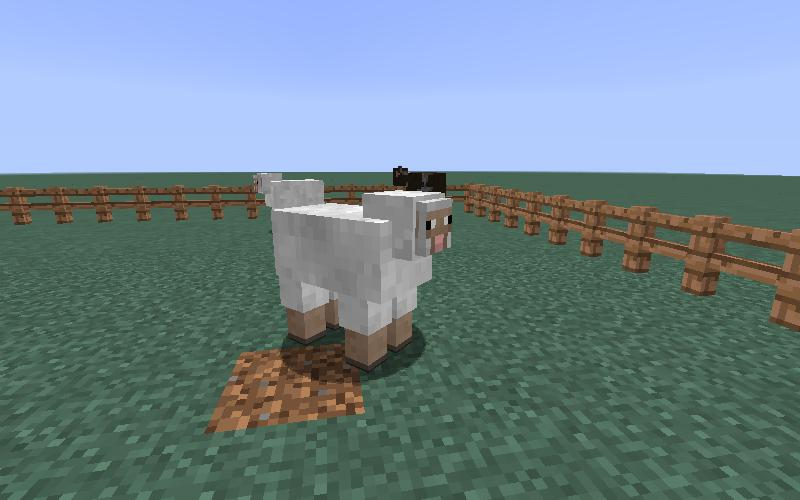cow: (392, 167, 446, 191)
sheep: (269, 190, 457, 373), (253, 172, 325, 201)
